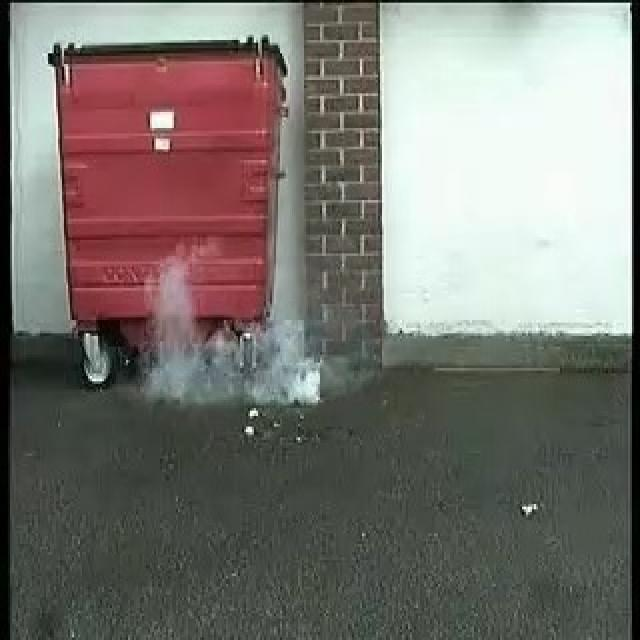smoke: (148, 261, 320, 404)
